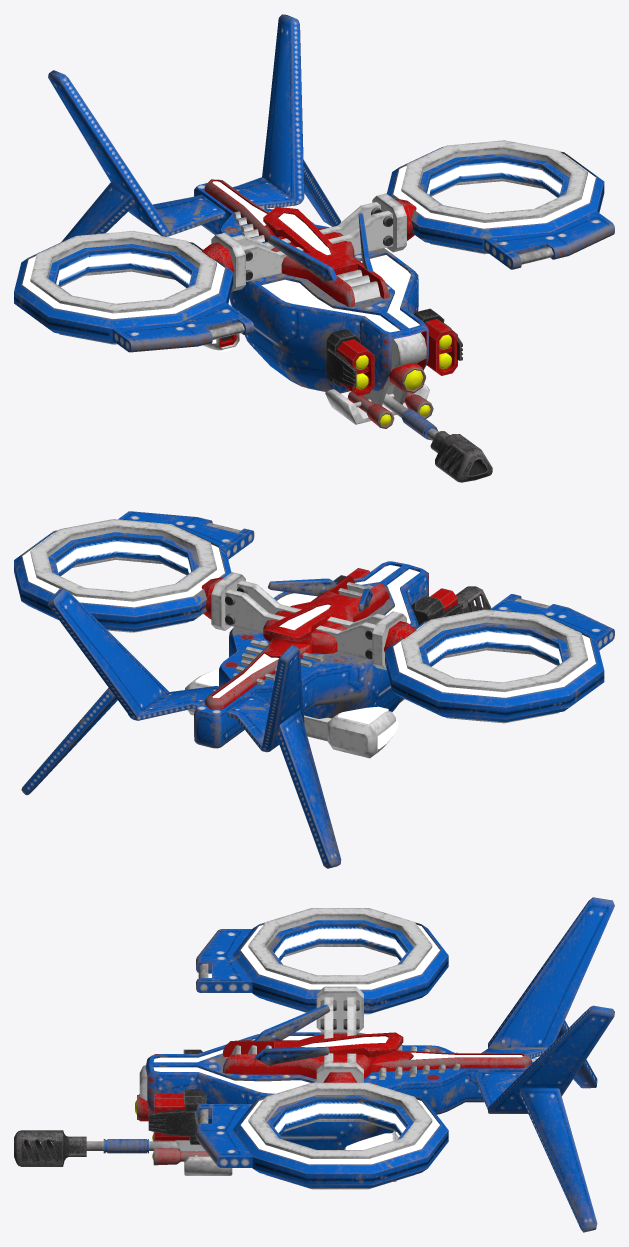
Rendered from Drone1.fbx.
3 renders of one model, top to bottom at view 1: azimuth 30°, elevation 25°; view 2: azimuth 150°, elevation 25°; view 3: azimuth 270°, elevation 25°, orthographic. The views are drawn at different scales.
Visible parts, largest first — view 1: Drone1; view 2: Drone1; view 3: Drone1.
Boxes of the visible parts, x1=… form: Drone1: x1=14, y1=14, x2=614, y2=482; Drone1: x1=14, y1=511, x2=614, y2=868; Drone1: x1=14, y1=897, x2=614, y2=1232.
Size of the model in its own units: 116 by 43.33 by 113.
